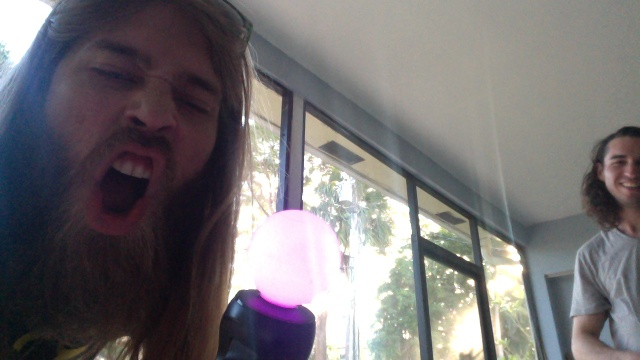wand: (251, 211, 340, 307)
